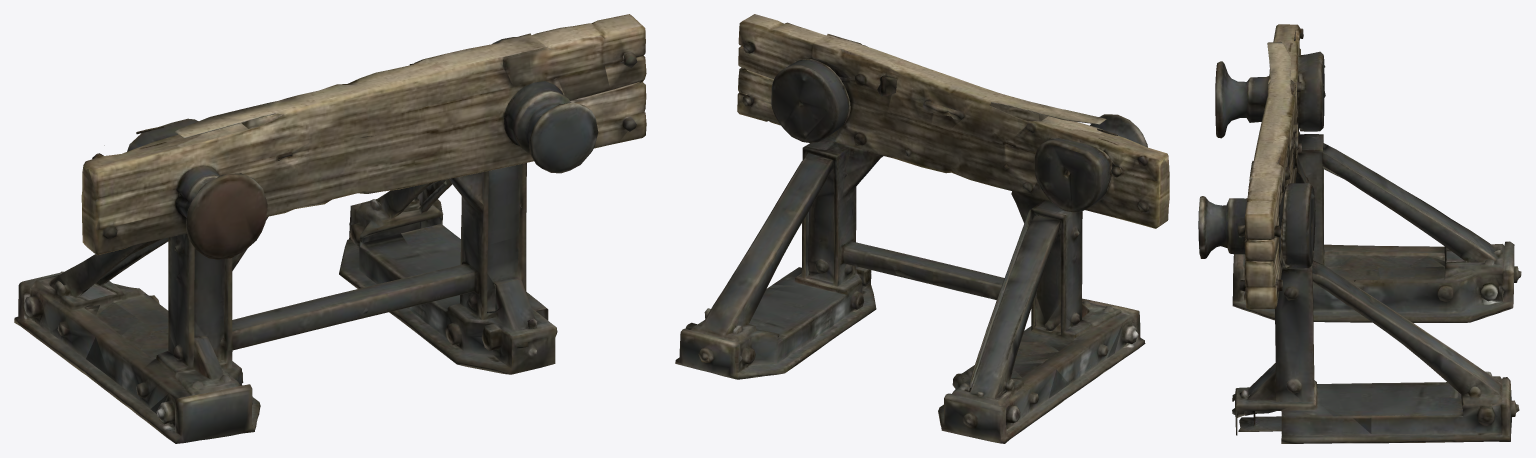
3 views of the same model, side by side, from view 1: azimuth 30°, elevation 25°; view 2: azimuth 150°, elevation 25°; view 3: azimuth 270°, elevation 25° (orthographic). The views are drawn at different scales.
Visible parts, largest first — view 1: Mindflower_V15_buffer_stop_baked; view 2: Mindflower_V15_buffer_stop_baked; view 3: Mindflower_V15_buffer_stop_baked.
Boxes of the visible parts, <box> form: Mindflower_V15_buffer_stop_baked: <box>14,14,646,443</box>; Mindflower_V15_buffer_stop_baked: <box>675,14,1169,443</box>; Mindflower_V15_buffer_stop_baked: <box>1198,24,1521,443</box>.
Bounding box in the file's own units: 0.9712 × 0.5419 × 0.6081.
1 material, 1 textured.
